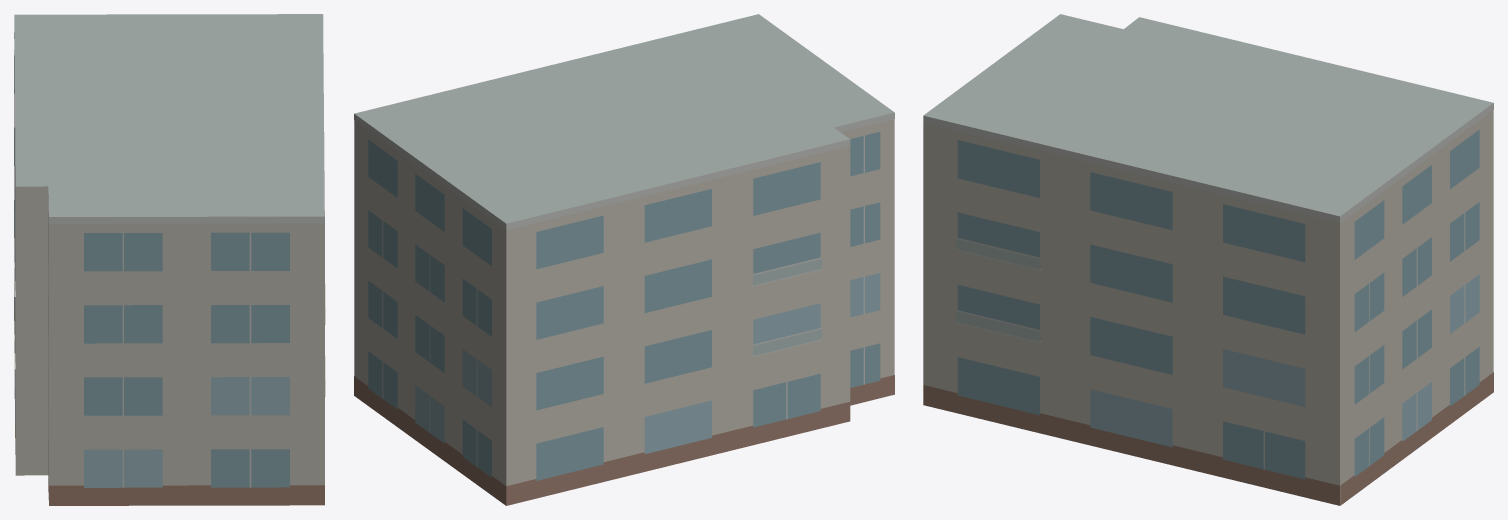
The model's file is survey-upis-32668505.glb.
3 renders of one model, left to right at view 1: azimuth 30°, elevation 25°; view 2: azimuth 150°, elevation 25°; view 3: azimuth 270°, elevation 25°, orthographic. The views are drawn at different scales.
Parts seen in each view (by area): view 1: survey-upis-32668505.tmp; view 2: survey-upis-32668505.tmp; view 3: survey-upis-32668505.tmp.
Boxes of the visible parts, x1,y1,x2,y2 form: survey-upis-32668505.tmp: (14,14,325,505); survey-upis-32668505.tmp: (354,14,894,505); survey-upis-32668505.tmp: (923,14,1493,505).
Size of the model in its own units: 15.46 by 10.3 by 18.41.
